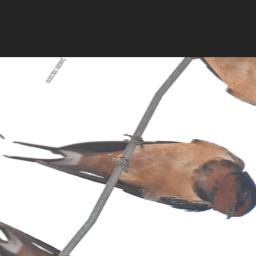Swallow: (0, 79, 256, 248)
